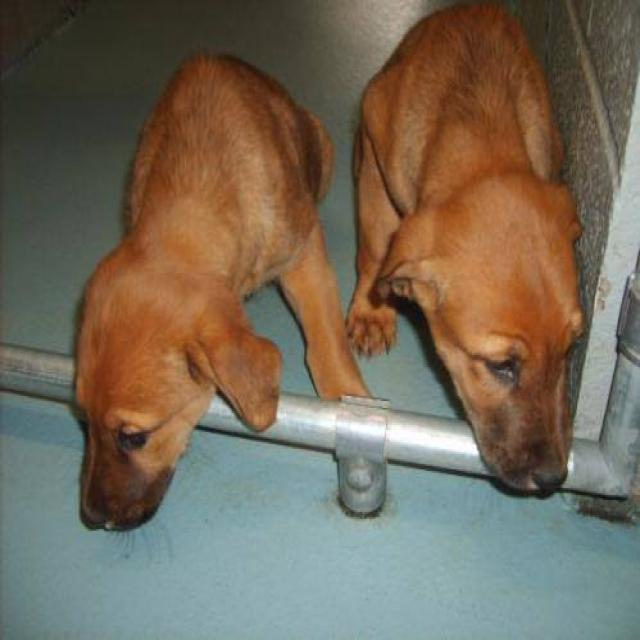dogs: (341, 0, 589, 565), (72, 54, 333, 566)
